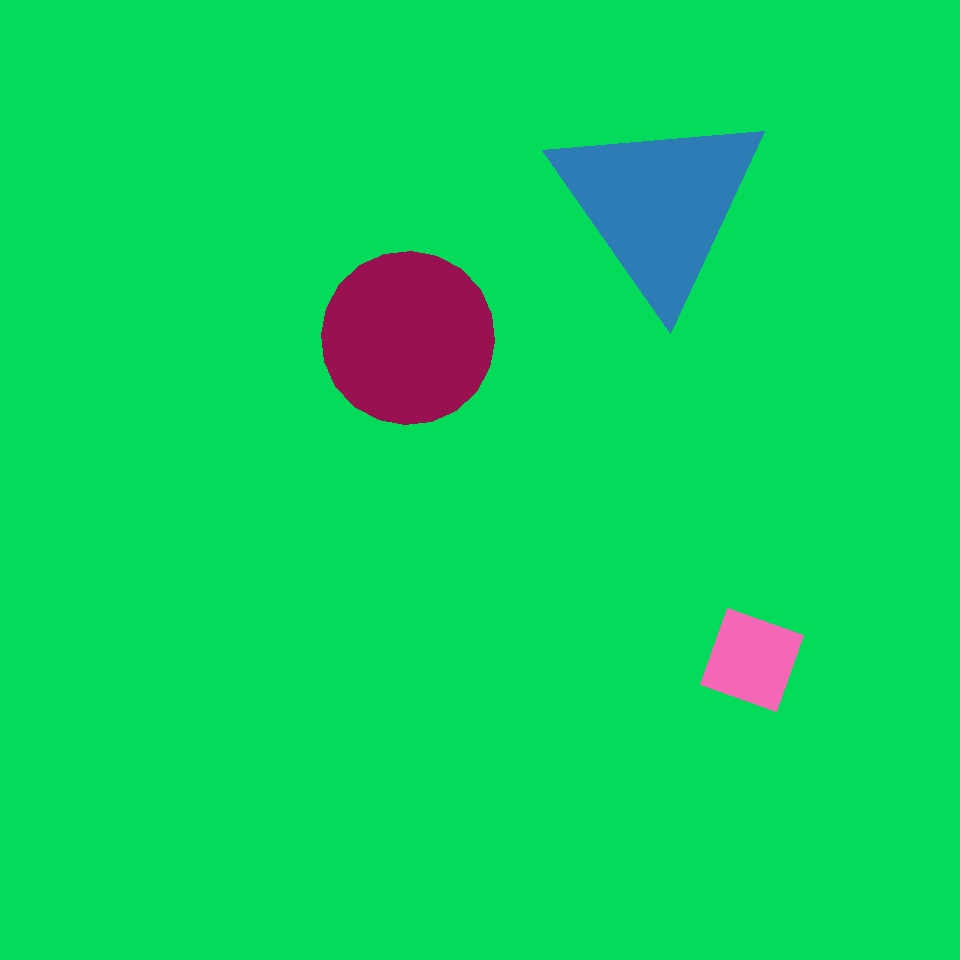circle: (615, 444, 886, 742), (548, 104, 770, 306), (685, 117, 885, 340)
square: (337, 276, 684, 623), (500, 133, 786, 420), (700, 608, 804, 712), (143, 598, 245, 700)
triangle: (155, 93, 421, 360), (322, 252, 494, 424)
